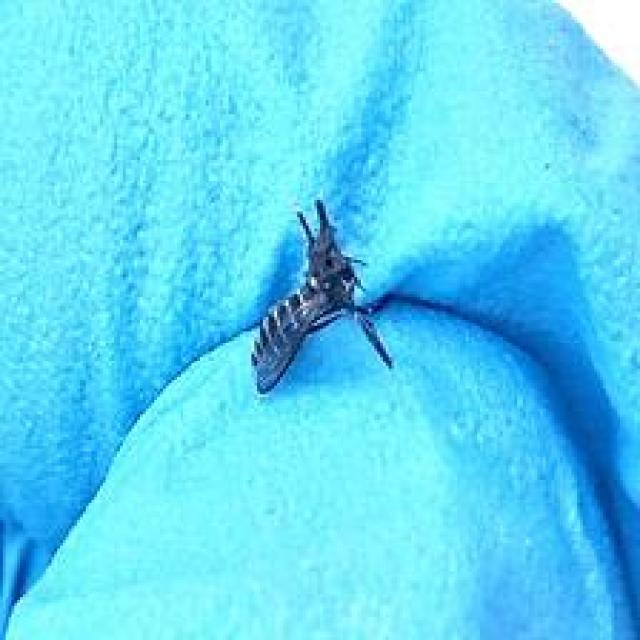Aedes albopictus: (249, 197, 394, 394)
